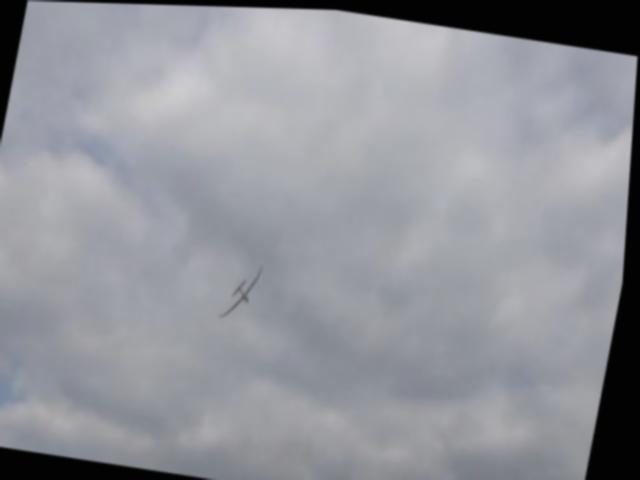uav: (217, 249, 274, 330)
